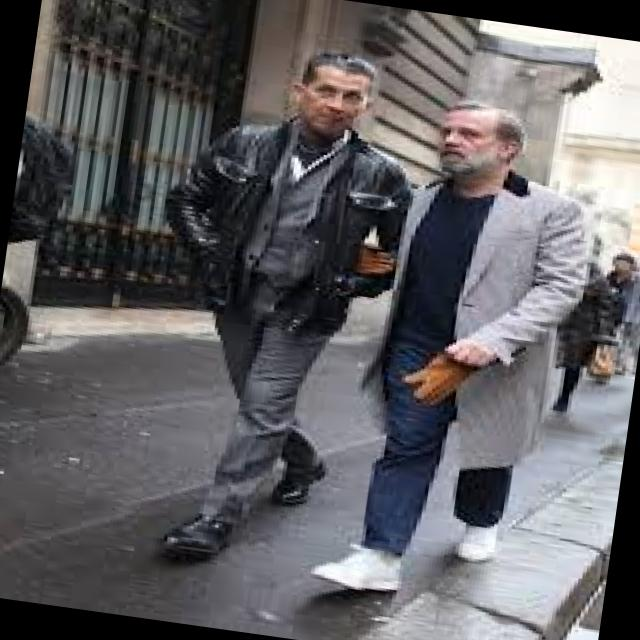Jacket: (319, 164, 621, 488), (146, 105, 414, 335)
